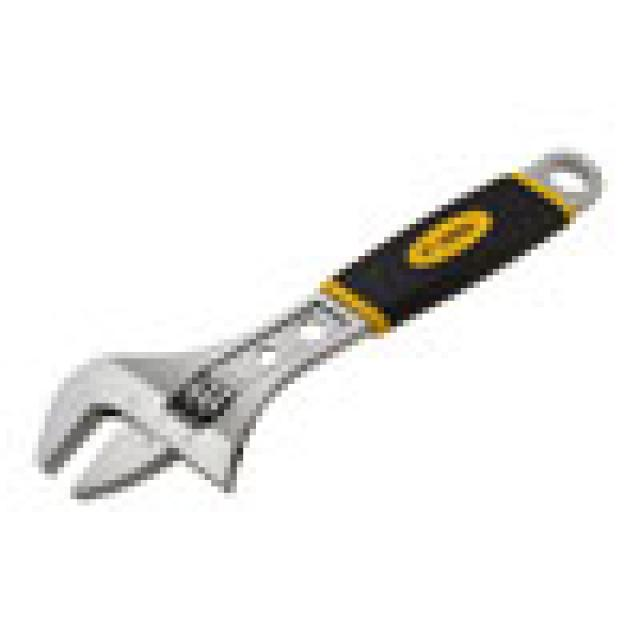wrench: (8, 160, 640, 500)
